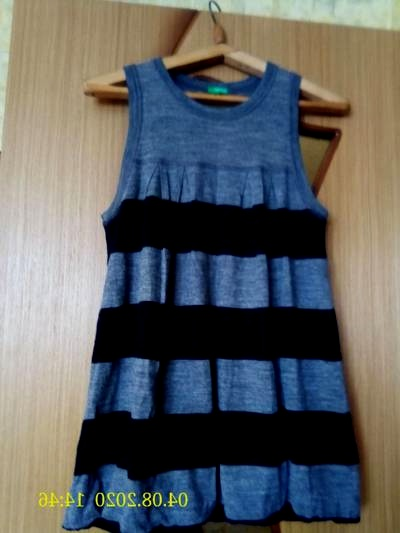Dress: (53, 51, 372, 533)
